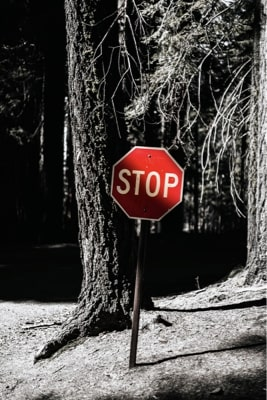StopSign: (108, 145, 186, 224)
